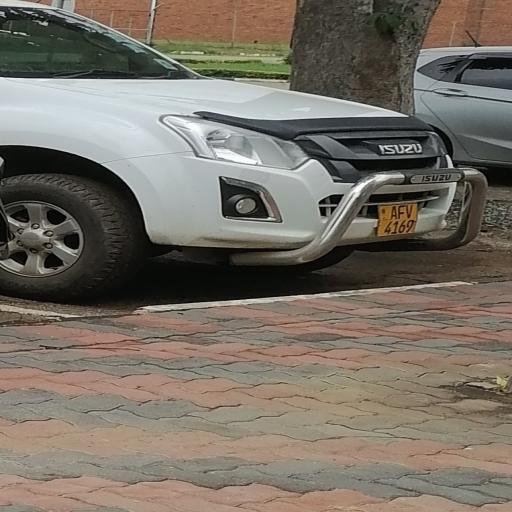number-plates: (371, 196, 423, 240)
